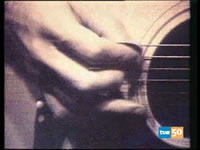guitar: (3, 1, 190, 148)
